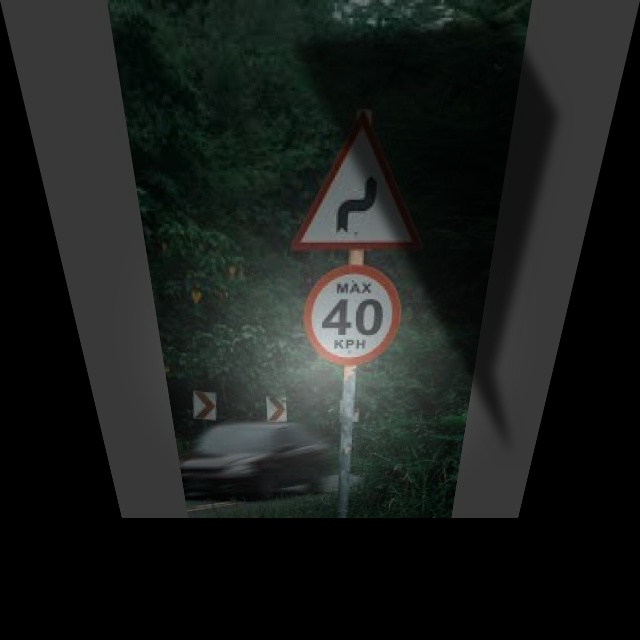Speed_Limit_40: (305, 263, 406, 368)
